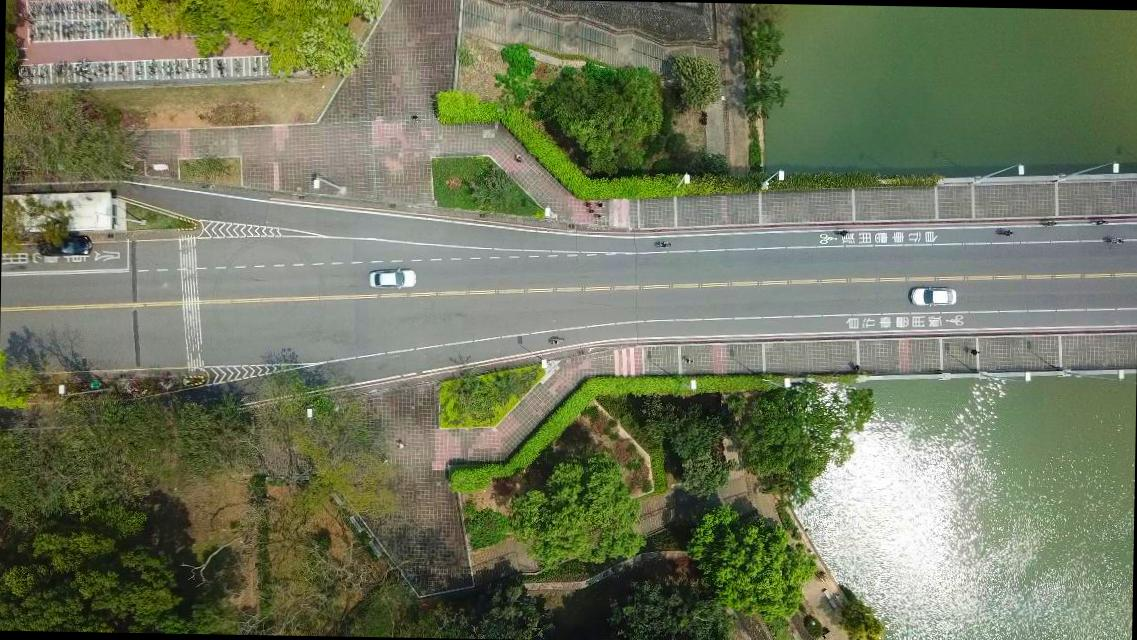vehicle: (35, 235, 92, 258), (368, 266, 416, 290), (908, 285, 956, 308)
